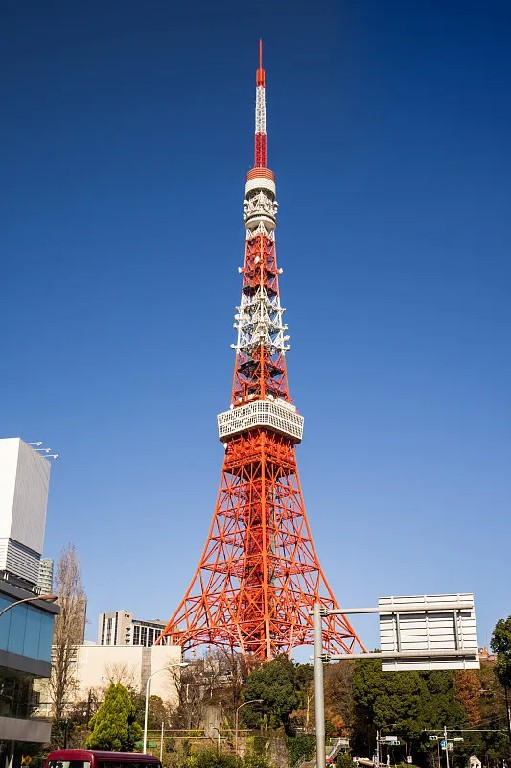Tokyo: (147, 38, 365, 655)
